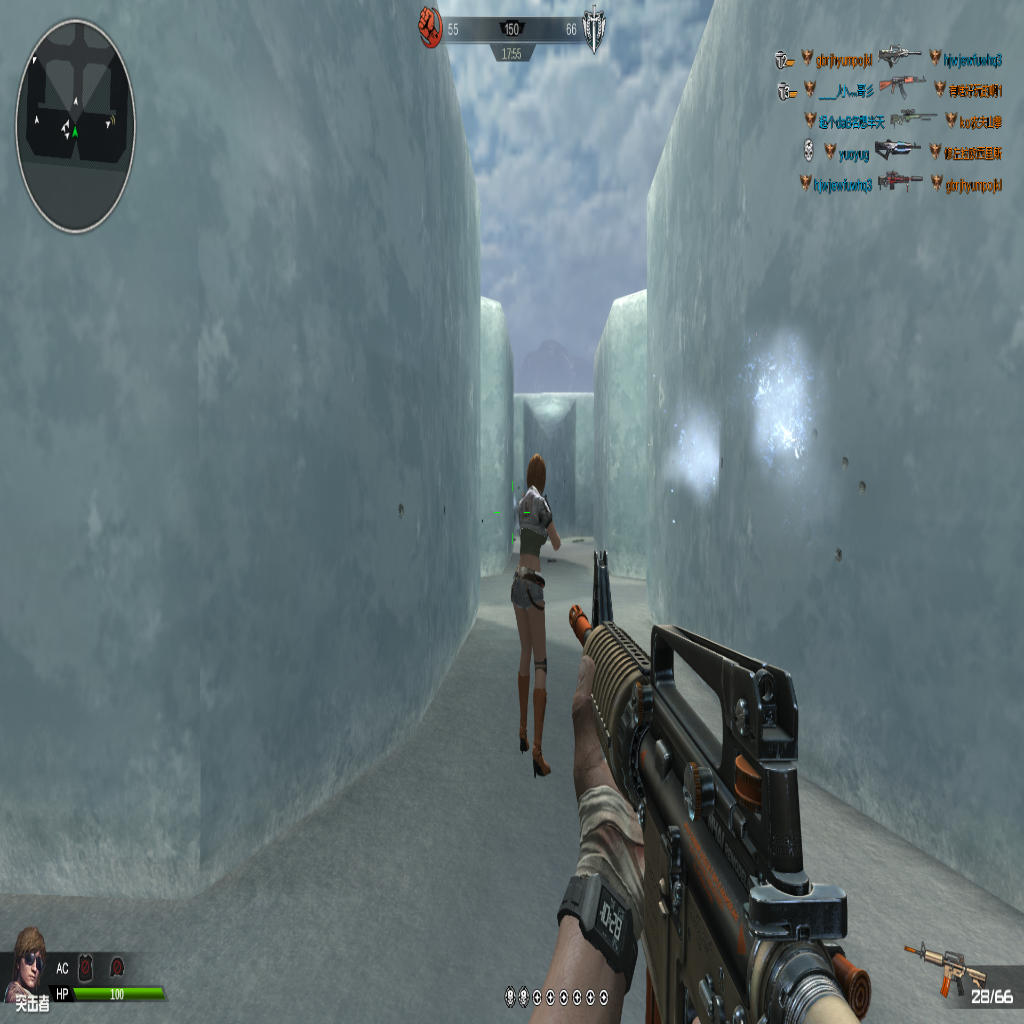tt: (510, 446, 561, 782)
